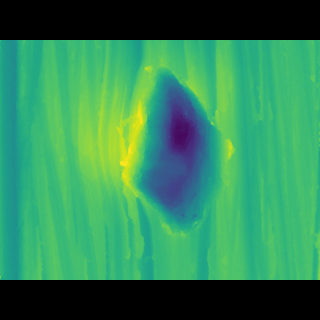Loch: (106, 84, 239, 220)
